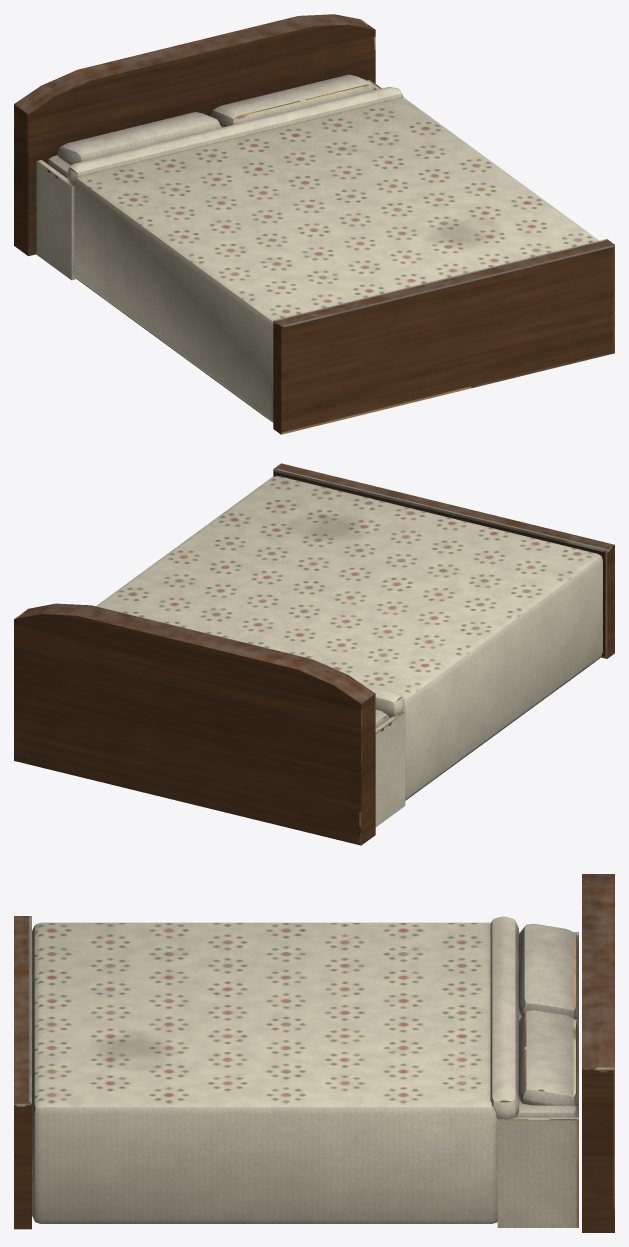
File: H_Bed_Double.fbx
3 views of the same model, one above another, from view 1: azimuth 30°, elevation 25°; view 2: azimuth 150°, elevation 25°; view 3: azimuth 270°, elevation 25° (orthographic). The views are drawn at different scales.
Visible parts, largest first — view 1: H_Bed_Double; view 2: H_Bed_Double; view 3: H_Bed_Double.
Part boxes in pixels (box(x1,y1,x2,y2)): H_Bed_Double: box(14, 14, 614, 434); H_Bed_Double: box(14, 463, 614, 845); H_Bed_Double: box(14, 874, 614, 1232).
Bounding box in the file's own units: 770 × 340 × 1000.
Materials: 1 (1 with a texture image).
